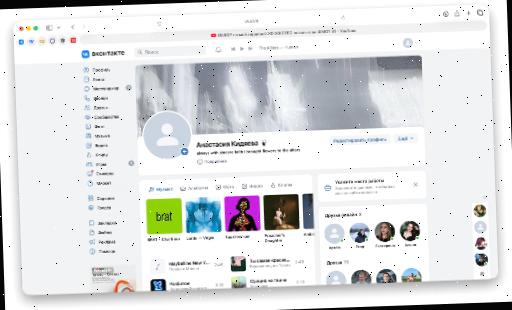vk: (16, 32, 500, 295)
